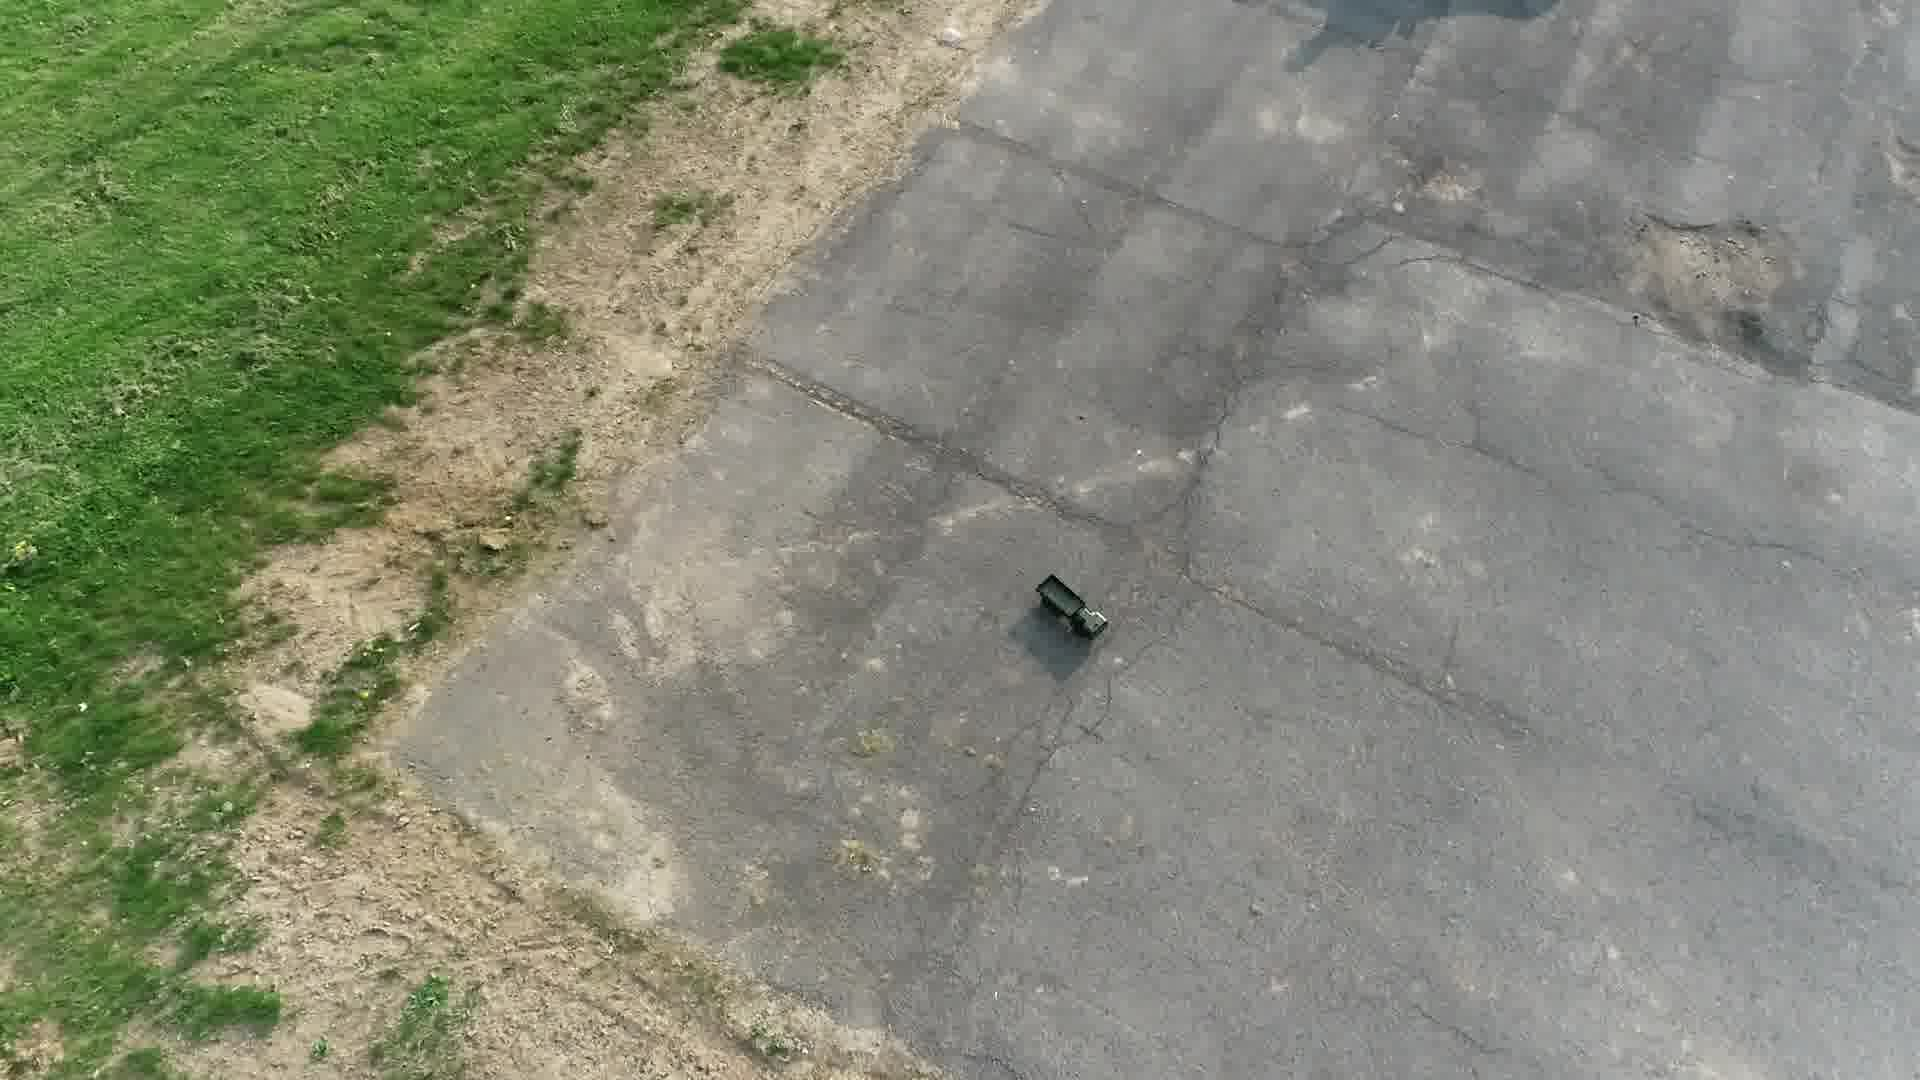transporter9: (1031, 571, 1112, 644)
